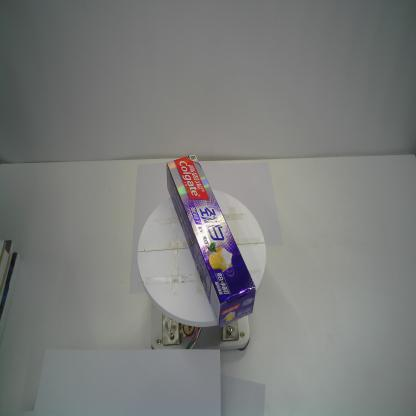Personal Hygiene: (166, 155, 256, 329)
